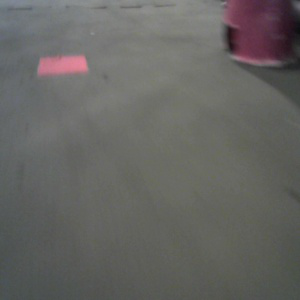Right: (222, 1, 298, 66)
